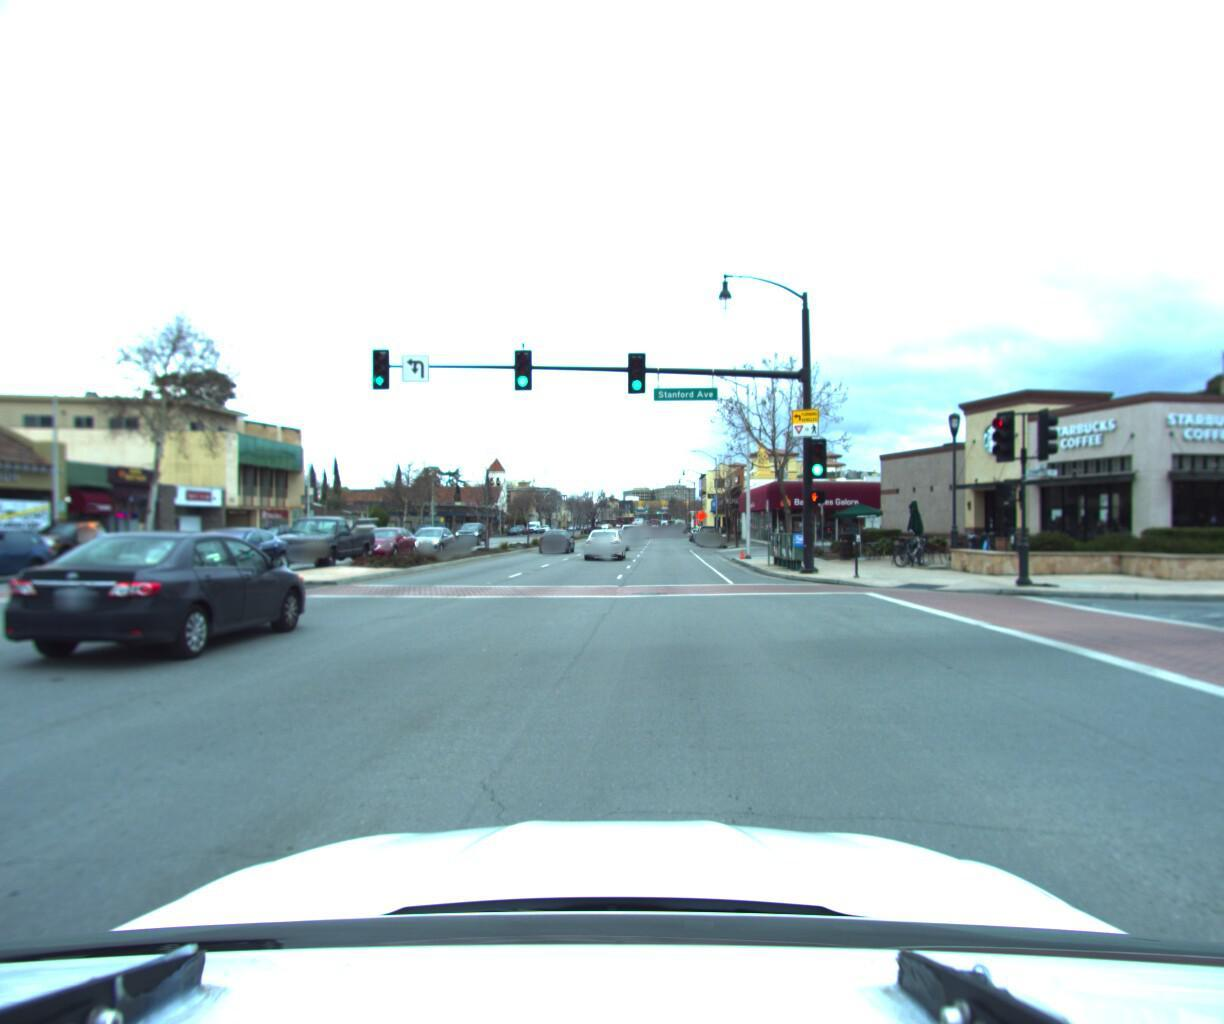bicycle: (886, 530, 939, 562), (881, 530, 932, 561), (970, 528, 992, 559), (956, 524, 975, 559), (982, 524, 1000, 558)
car: (0, 522, 322, 668), (148, 525, 300, 588), (4, 517, 145, 570), (267, 516, 382, 574), (349, 524, 420, 563), (404, 524, 458, 555), (582, 523, 625, 557), (535, 523, 575, 548), (458, 519, 494, 543), (697, 526, 721, 545), (624, 521, 646, 539)
